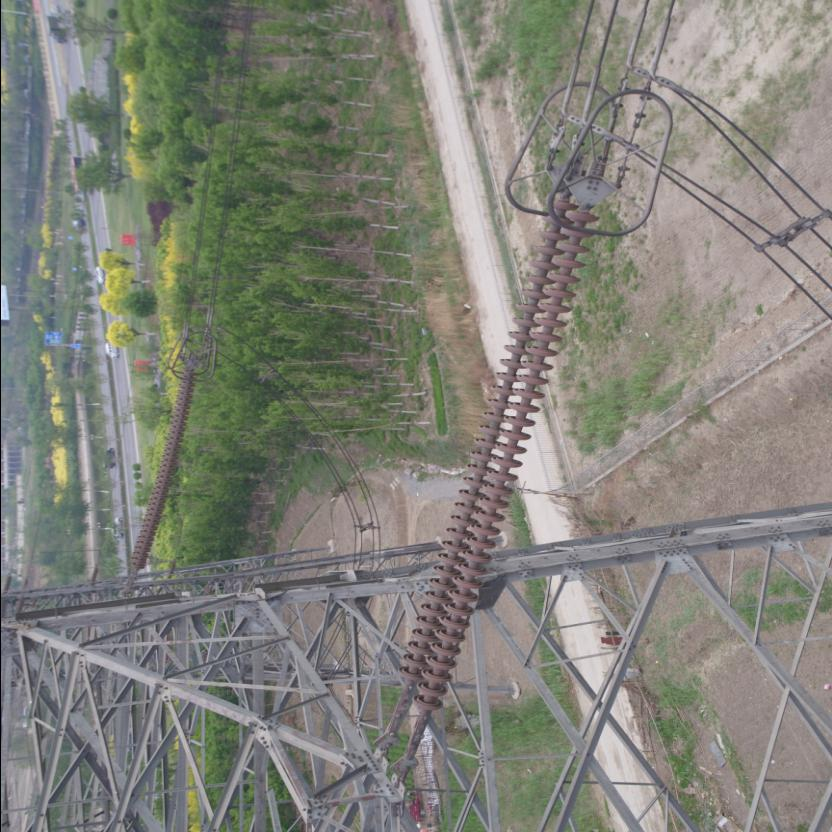insulator: (391, 193, 601, 731), (126, 369, 200, 582)
